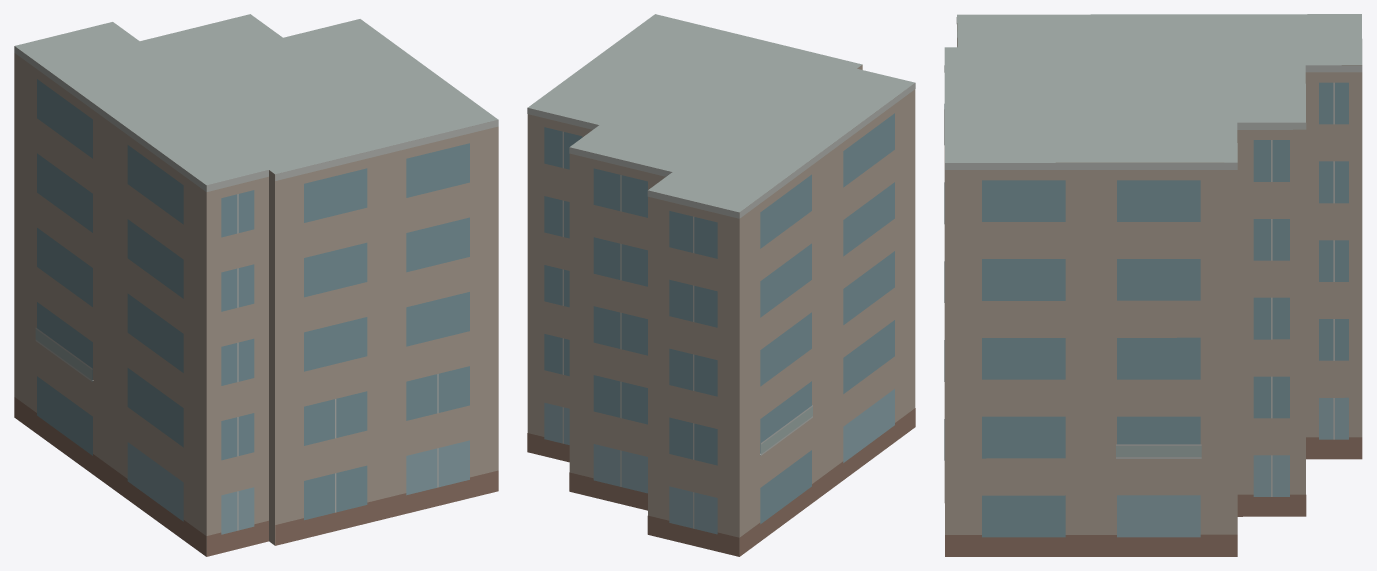
The model's file is survey-upis-32536503.glb.
3 views of the same model, side by side, from view 1: azimuth 30°, elevation 25°; view 2: azimuth 150°, elevation 25°; view 3: azimuth 270°, elevation 25° (orthographic). The views are drawn at different scales.
Visible parts, largest first — view 1: survey-upis-32536503.tmp; view 2: survey-upis-32536503.tmp; view 3: survey-upis-32536503.tmp.
Boxes of the visible parts, bbox=[...] form: survey-upis-32536503.tmp: bbox=[14, 14, 498, 556]; survey-upis-32536503.tmp: bbox=[527, 14, 915, 556]; survey-upis-32536503.tmp: bbox=[944, 14, 1362, 556].
Size of the model in its own units: 10.84 by 13.3 by 12.79.
